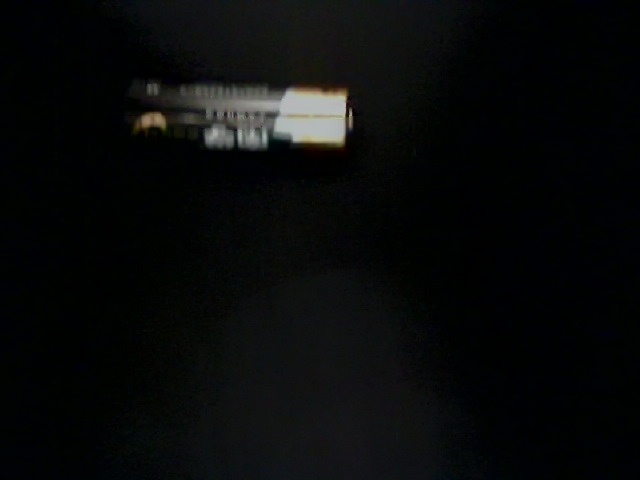QTLJ: (303, 1, 502, 140)
